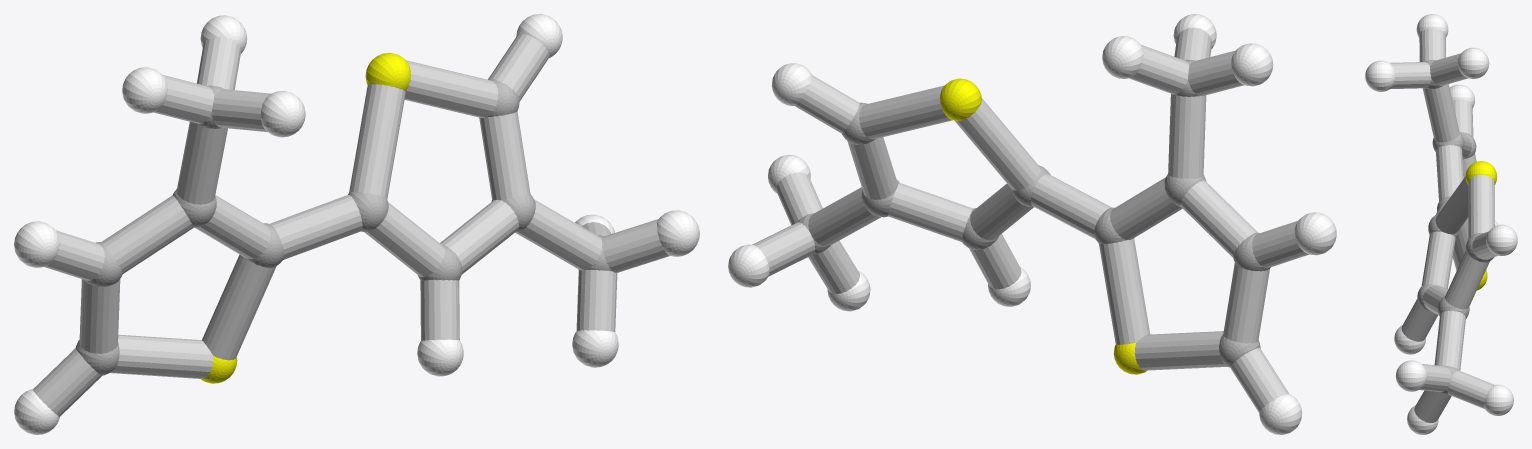
The model's file is Methylthiophene_Phi_20_Theta_330_Methylthiophene.glb.
3 renders of one model, left to right at view 1: azimuth 30°, elevation 25°; view 2: azimuth 150°, elevation 25°; view 3: azimuth 270°, elevation 25°, orthographic. The views are drawn at different scales.
Parts seen in each view (by area): view 1: grp7965, grp3621, grp1, grp7241; view 2: grp7965, grp3621, grp1, grp7241; view 3: grp7965, grp3621, grp1, grp7241.
Boxes of the visible parts, box(x1,y1,x2,y2) form: grp7965: box(33, 34, 670, 416); grp3621: box(14, 14, 699, 434); grp1: box(75, 79, 611, 375); grp7241: box(201, 53, 410, 383); grp7965: box(752, 27, 1309, 412); grp3621: box(728, 14, 1336, 434); grp1: box(796, 59, 1270, 367); grp7241: box(940, 78, 1146, 374); grp7965: box(1390, 28, 1497, 422); grp3621: box(1365, 14, 1517, 434); grp1: box(1417, 60, 1494, 394); grp7241: box(1465, 161, 1497, 290).
Bounding box in the file's own units: 9.57 × 5.71 × 2.89.
